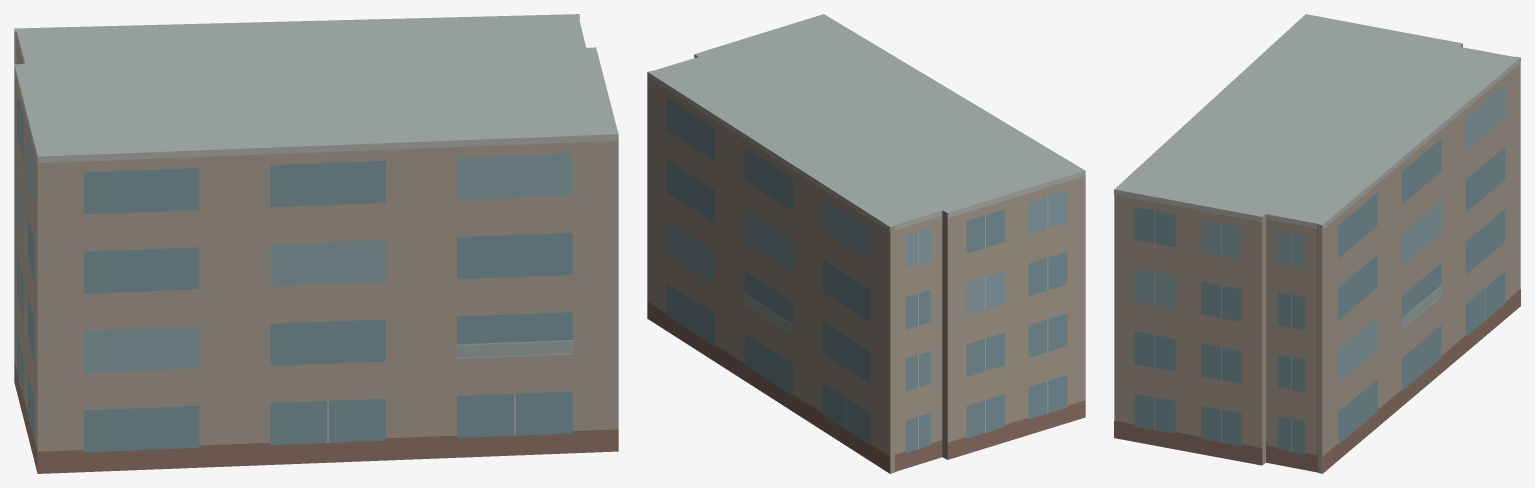
The model's file is survey-upis-32658799.glb.
3 views of the same model, side by side, from view 1: azimuth 30°, elevation 25°; view 2: azimuth 150°, elevation 25°; view 3: azimuth 270°, elevation 25° (orthographic). The views are drawn at different scales.
Visible parts, largest first — view 1: survey-upis-32658799.tmp; view 2: survey-upis-32658799.tmp; view 3: survey-upis-32658799.tmp.
Part boxes in pixels (left/top/right/bottom): survey-upis-32658799.tmp: left=14, top=14, right=618, bottom=473; survey-upis-32658799.tmp: left=647, top=14, right=1085, bottom=473; survey-upis-32658799.tmp: left=1114, top=14, right=1520, bottom=473.
Size of the model in its own units: 21.15 by 11.6 by 17.2.
